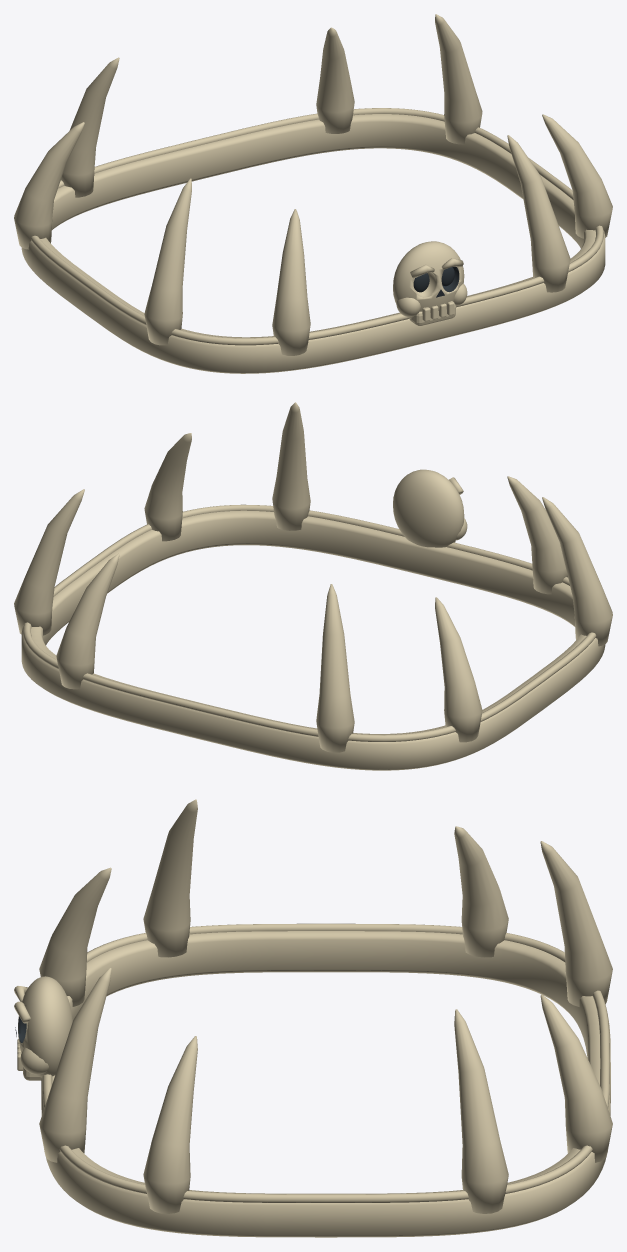
File: bone-crown.glb
The picture shows the model from 3 angles, top to bottom: view 1: azimuth 30°, elevation 25°; view 2: azimuth 150°, elevation 25°; view 3: azimuth 270°, elevation 25°; orthographic projection. The views are drawn at different scales.
Visible parts, largest first — view 1: Bone Crown Aged ivory assembly, Bone Crown Dark inner lining assembly; view 2: Bone Crown Aged ivory assembly; view 3: Bone Crown Aged ivory assembly.
Boxes of the visible parts, x1,y1,x2,y2 form: Bone Crown Aged ivory assembly: [14, 14, 612, 373]; Bone Crown Dark inner lining assembly: [413, 267, 454, 297]; Bone Crown Aged ivory assembly: [14, 402, 612, 770]; Bone Crown Aged ivory assembly: [14, 799, 612, 1237].
Bounding box in the file's own units: 0.7954 × 0.2651 × 0.7299.
